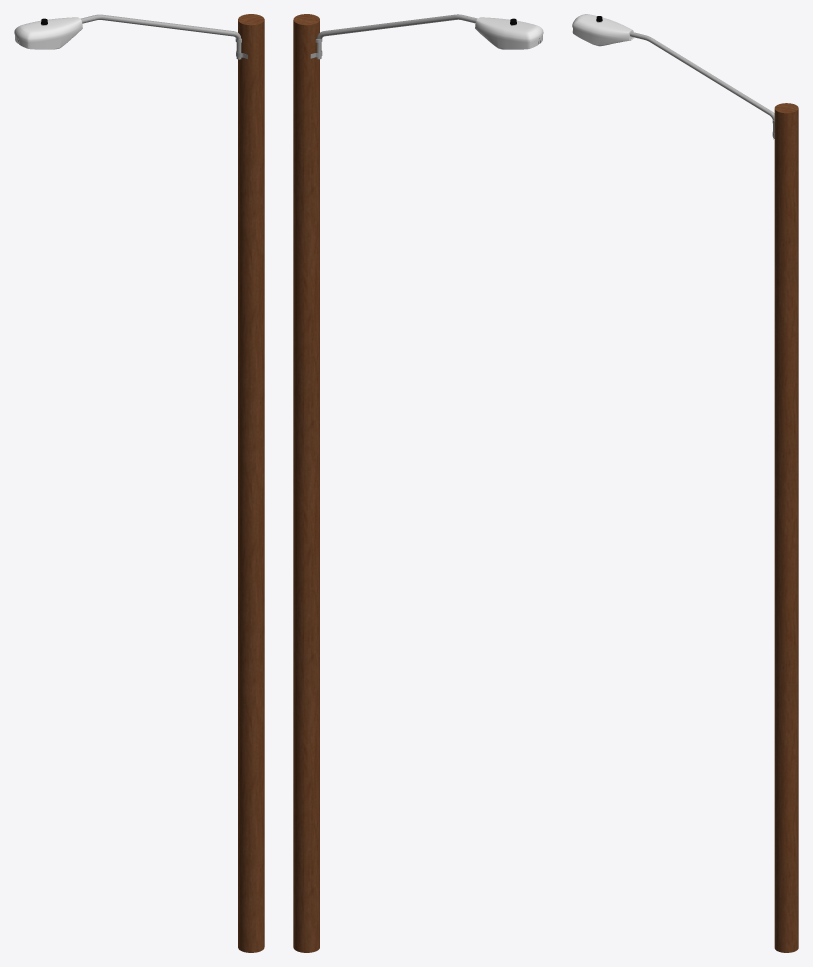
Rendered from wooden_light_pole.glb.
3 views of the same model, side by side, from view 1: azimuth 30°, elevation 25°; view 2: azimuth 150°, elevation 25°; view 3: azimuth 330°, elevation 25° (orthographic). The views are drawn at different scales.
Parts seen in each view (by area): view 1: Material2 (×3); view 2: Material2 (×3); view 3: Material2 (×3).
Boxes of the visible parts, x1=… form: Material2 (×3): x1=14, y1=14, x2=264, y2=952; Material2 (×3): x1=293, y1=14, x2=543, y2=952; Material2 (×3): x1=572, y1=14, x2=798, y2=952.
Size of the model in its own units: 94.1 by 359 by 11.52.
18 materials, 4 textured.
